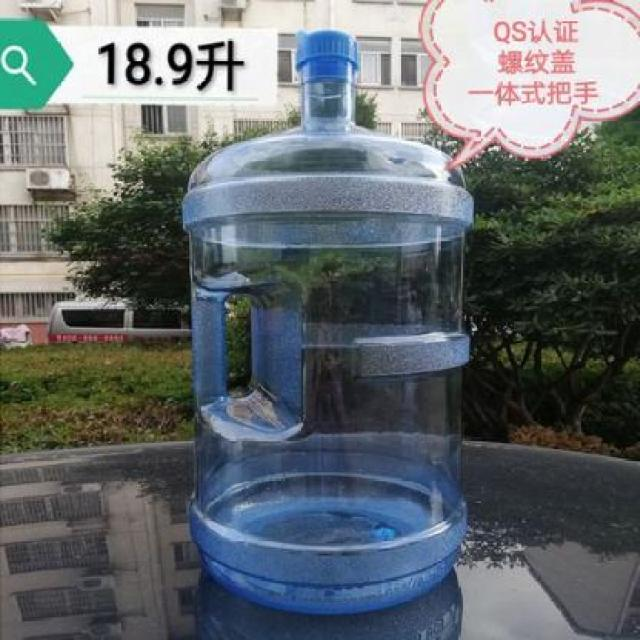coolerbottle: (185, 28, 480, 617)
